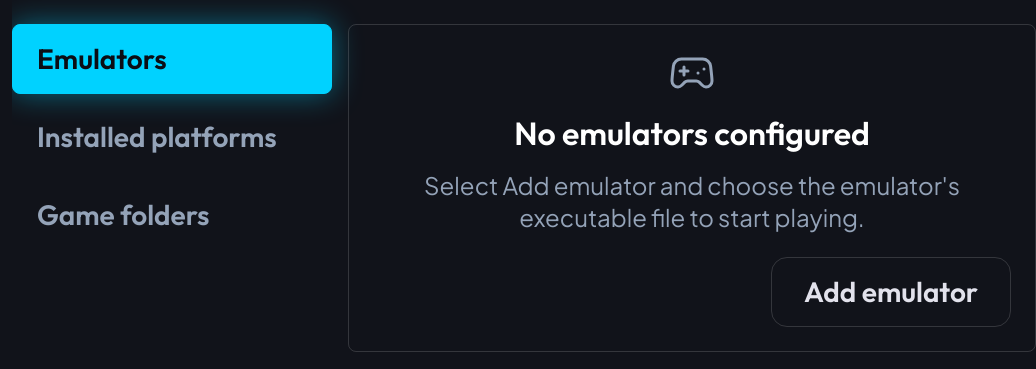
Scenario: SettingsScreen › opens the form to add an emulator across the whole width, in place of the categories
Click the button "Add emulator" at (891, 292), box [771, 257, 1011, 327]
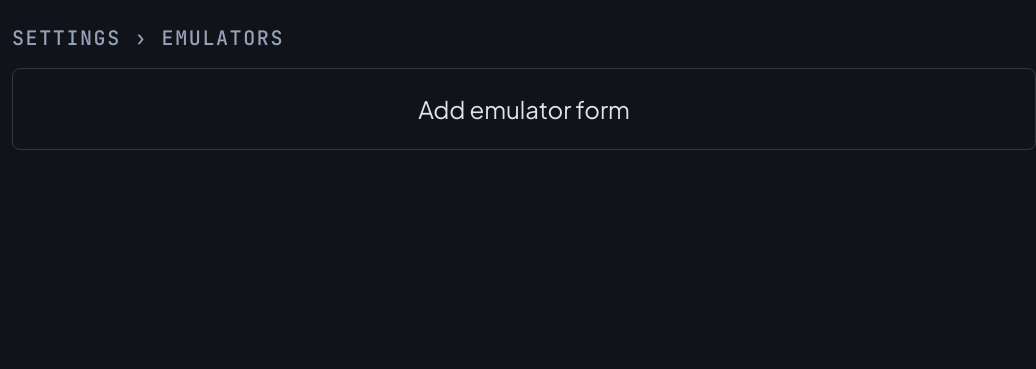
Now the button "Add emulator form" is shown, box [37, 93, 1011, 125]
Now the heading "No emulators configured" is gone
